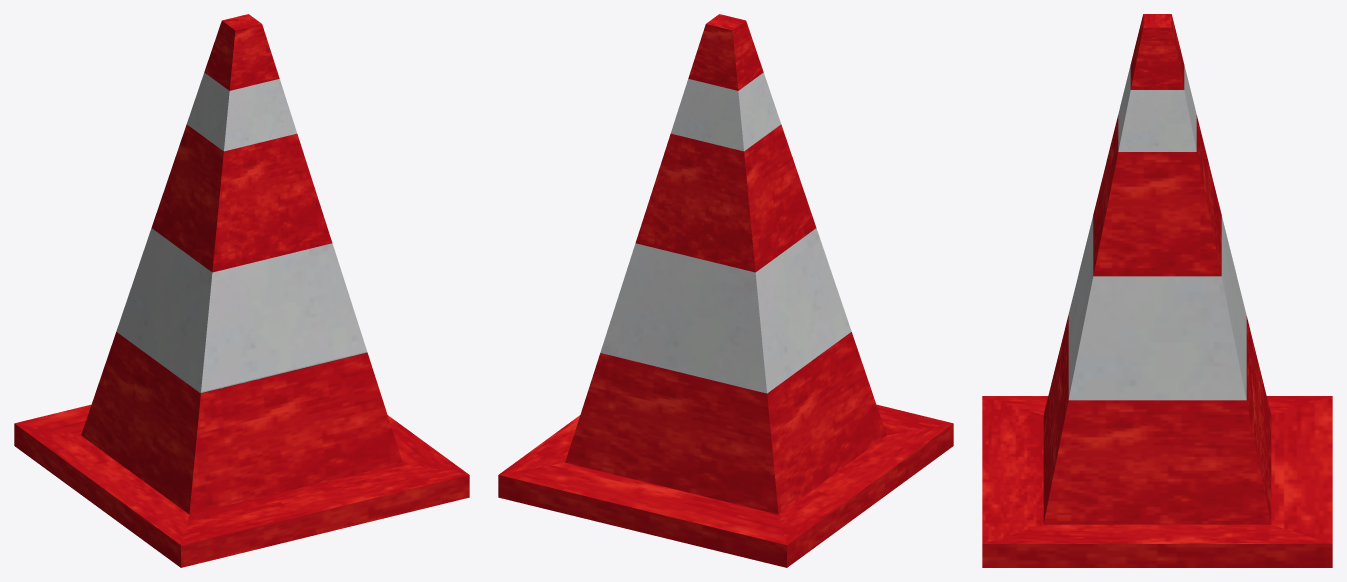
Rendered from BLOCKYGON_STREET CONE.fbx.
3 views of the same model, side by side, from view 1: azimuth 30°, elevation 25°; view 2: azimuth 150°, elevation 25°; view 3: azimuth 270°, elevation 25° (orthographic). The views are drawn at different scales.
Parts seen in each view (by area): view 1: BLOCKYGON_STREET_CONE; view 2: BLOCKYGON_STREET_CONE; view 3: BLOCKYGON_STREET_CONE.
Part boxes in pixels (left/top/right/bottom): BLOCKYGON_STREET_CONE: left=14, top=14, right=469, bottom=567; BLOCKYGON_STREET_CONE: left=498, top=14, right=953, bottom=567; BLOCKYGON_STREET_CONE: left=982, top=14, right=1332, bottom=567.
Bounding box in the file's own units: 50 × 74.44 × 50.
Materials: 1 (1 with a texture image).
